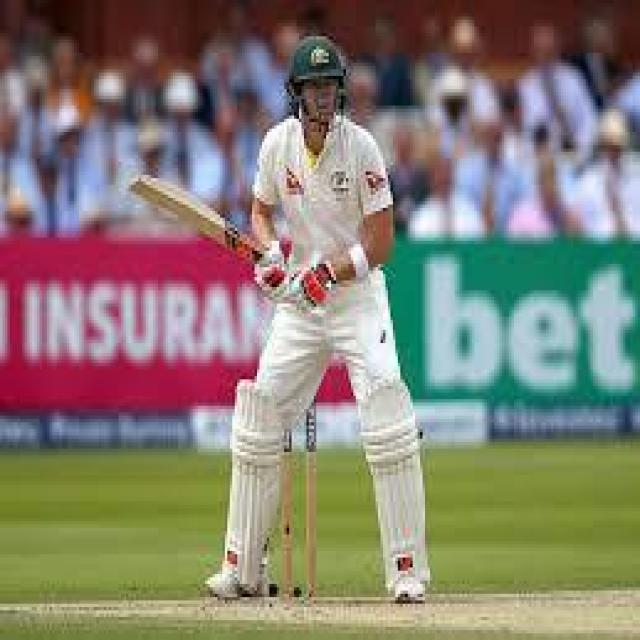bat: (122, 171, 266, 277)
toe: (118, 164, 156, 209)
